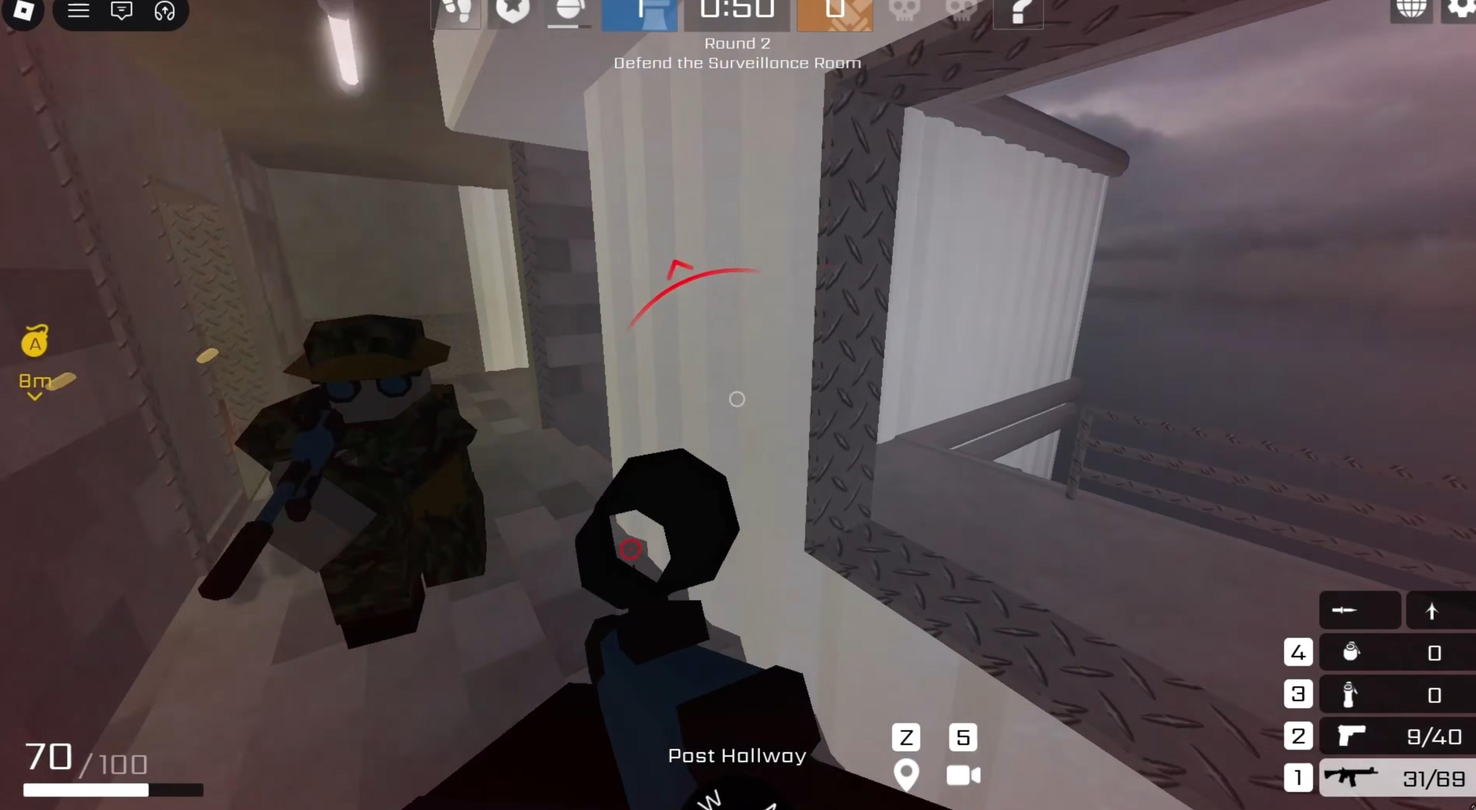enemy: (236, 297, 497, 690)
